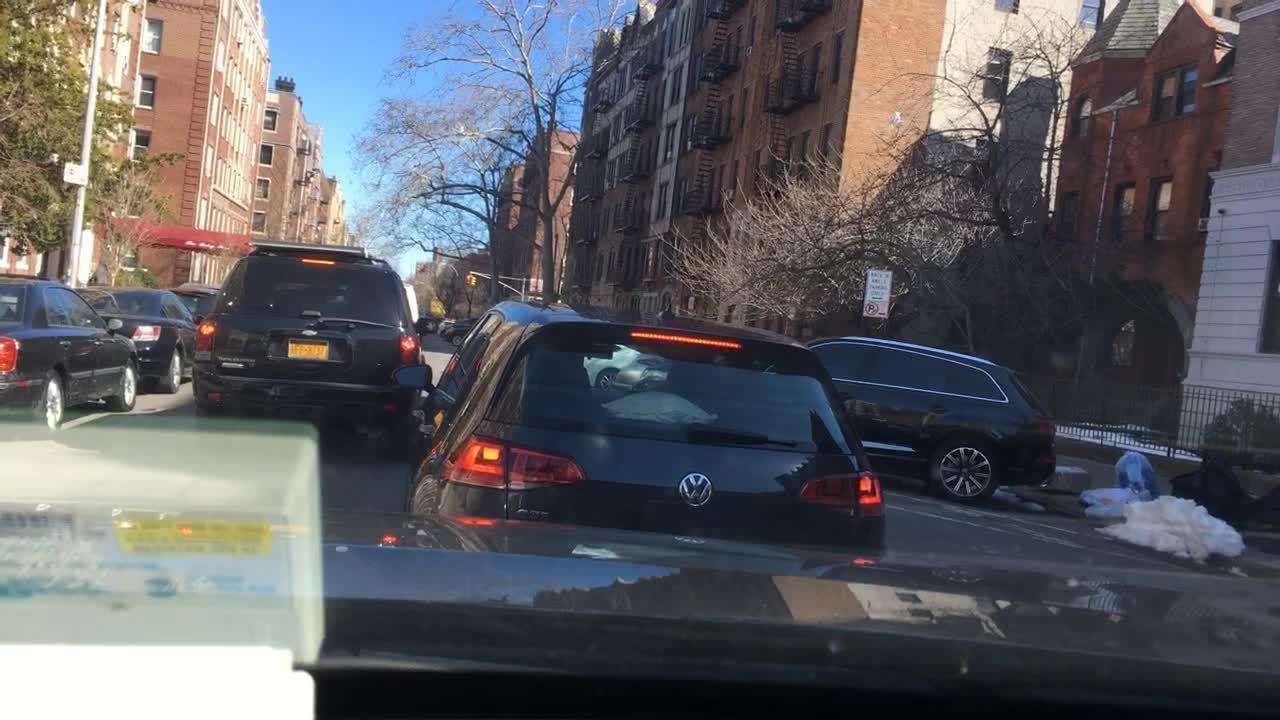Volkswagen: (673, 465, 725, 515)
